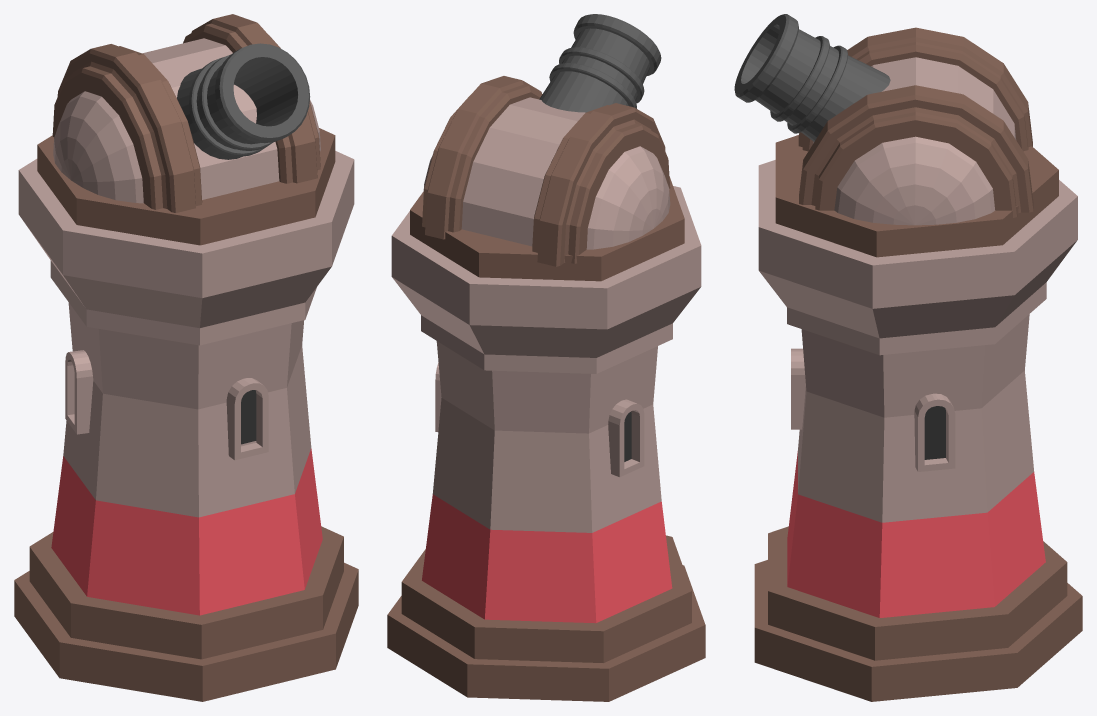
Rendered from Canon Tower V2.fbx.
The picture shows the model from 3 angles, left to right: view 1: azimuth 30°, elevation 25°; view 2: azimuth 150°, elevation 25°; view 3: azimuth 270°, elevation 25°; orthographic projection. The views are drawn at different scales.
Parts seen in each view (by area): view 1: Cylinder.005, Sphere, Cube.003, Cylinder.007, Cylinder.004, Cube.005, Cube.002, Cube.004; view 2: Cylinder.005, Sphere, Cube.003, Cylinder.007, Cylinder.004, Cube.005, Cube.004; view 3: Cylinder.005, Cube.005, Sphere, Cylinder.007, Cylinder.004, Cube.003, Cube.006, Cube.002.
Boxes of the visible parts, <box> form: Cylinder.005: <box>14,151,358,701</box>; Sphere: <box>53,38,320,203</box>; Cube.003: <box>52,44,202,212</box>; Cylinder.007: <box>37,128,335,245</box>; Cylinder.004: <box>177,43,310,159</box>; Cube.005: <box>183,14,320,183</box>; Cube.002: <box>226,378,268,460</box>; Cube.004: <box>65,350,93,434</box>; Cylinder.005: <box>387,186,705,701</box>; Sphere: <box>423,97,670,249</box>; Cube.003: <box>532,103,670,266</box>; Cylinder.007: <box>410,176,684,281</box>; Cylinder.004: <box>539,14,661,112</box>; Cube.005: <box>422,76,542,239</box>; Cube.004: <box>608,399,644,477</box>; Cylinder.005: <box>754,160,1082,701</box>; Cube.005: <box>799,85,1033,217</box>; Sphere: <box>813,57,1016,225</box>; Cylinder.007: <box>775,135,1058,257</box>; Cylinder.004: <box>734,14,890,141</box>; Cube.003: <box>798,27,1032,151</box>; Cube.006: <box>914,393,955,471</box>; Cube.002: <box>791,348,805,429</box>.
Bounding box in the file's own units: 247 × 496 × 256.
